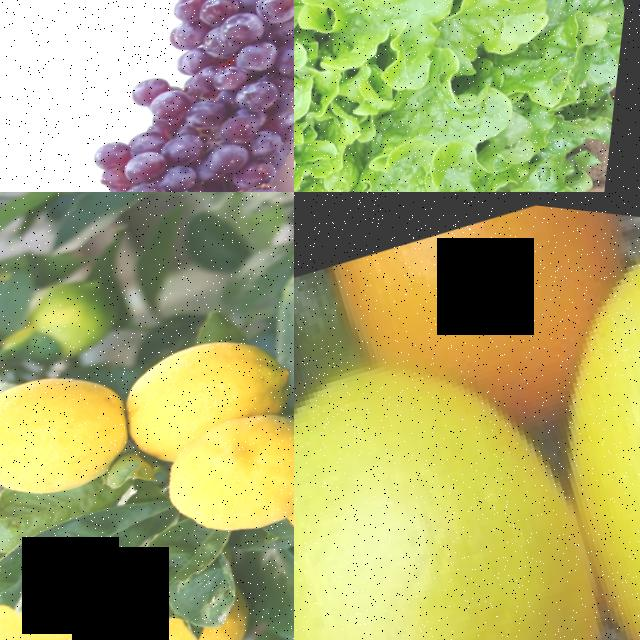grapes: (28, 0, 294, 192), (0, 125, 294, 192)
lemon: (294, 303, 640, 640), (464, 197, 640, 640), (0, 334, 159, 529), (109, 296, 294, 457), (152, 374, 294, 556), (0, 549, 151, 640), (101, 576, 276, 640), (36, 256, 140, 359)
lettuce: (294, 0, 640, 192)
